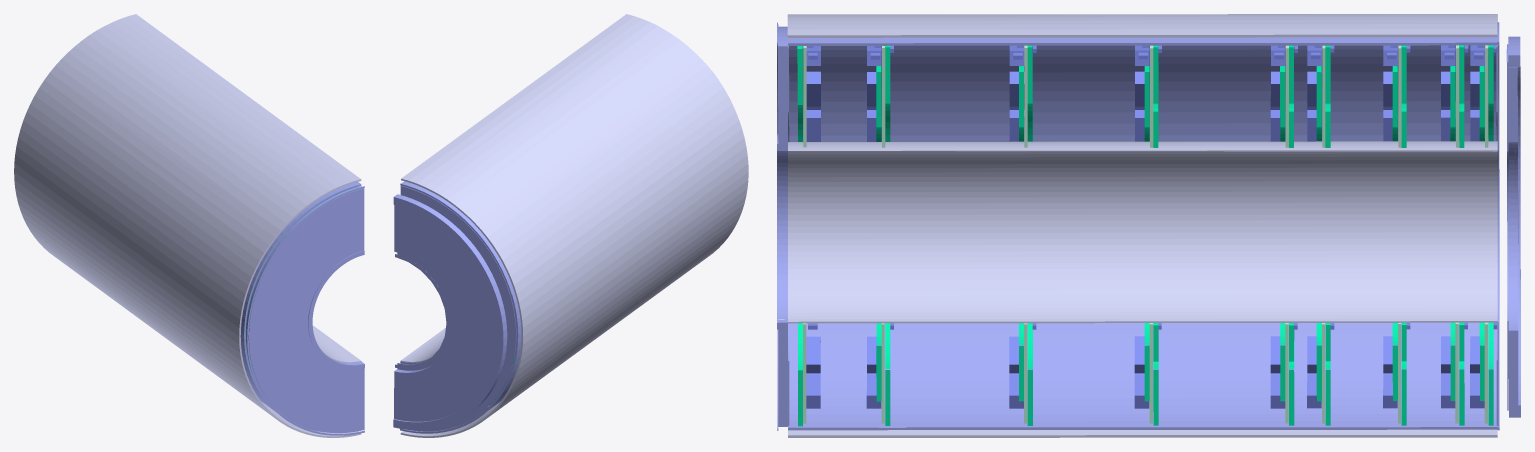
File: SCT-SideA-cut2.glb
The picture shows the model from 3 angles, left to right: view 1: azimuth 30°, elevation 25°; view 2: azimuth 150°, elevation 25°; view 3: azimuth 270°, elevation 25°; orthographic projection. The views are drawn at different scales.
Visible parts, largest first — view 1: null; view 2: null; view 3: null.
Part boxes in pixels (x1=…): null: x1=14, y1=14, x2=364, y2=437; null: x1=393, y1=14, x2=748, y2=437; null: x1=777, y1=14, x2=1520, y2=437.
Size of the model in its own units: 0.6092 by 1.22 by 2.04.
